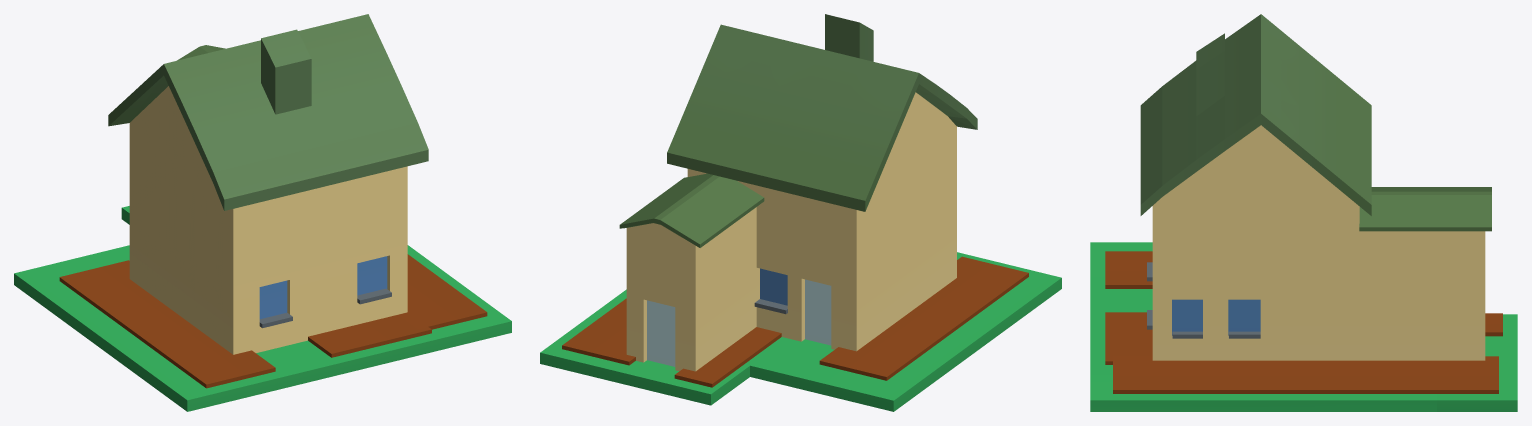
File: Outer House2.fbx
3 renders of one model, left to right at view 1: azimuth 30°, elevation 25°; view 2: azimuth 150°, elevation 25°; view 3: azimuth 270°, elevation 25°, orthographic. The views are drawn at different scales.
Visible parts, largest first — view 1: Outer_House2; view 2: Outer_House2; view 3: Outer_House2.
Part boxes in pixels (<box>): Outer_House2: <box>14,14,511,411</box>; Outer_House2: <box>540,14,1061,411</box>; Outer_House2: <box>1090,14,1517,411</box>.
Bounding box in the file's own units: 782 × 668 × 893.
1 material, 1 textured.
